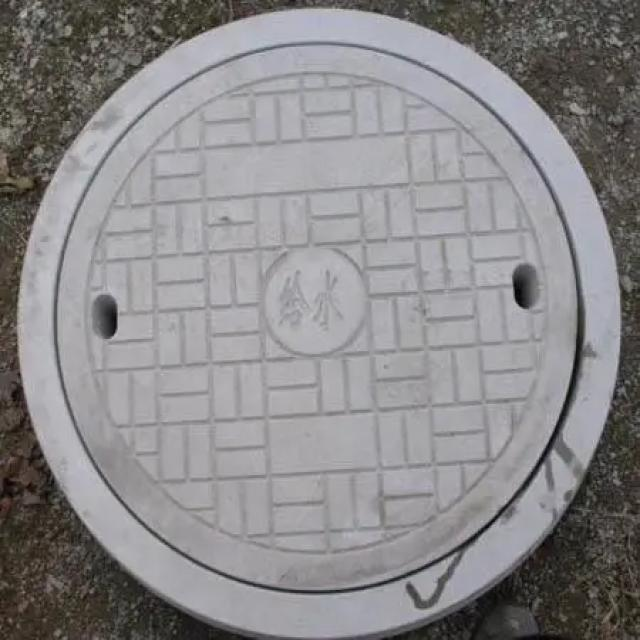manhole: (20, 11, 619, 639)
